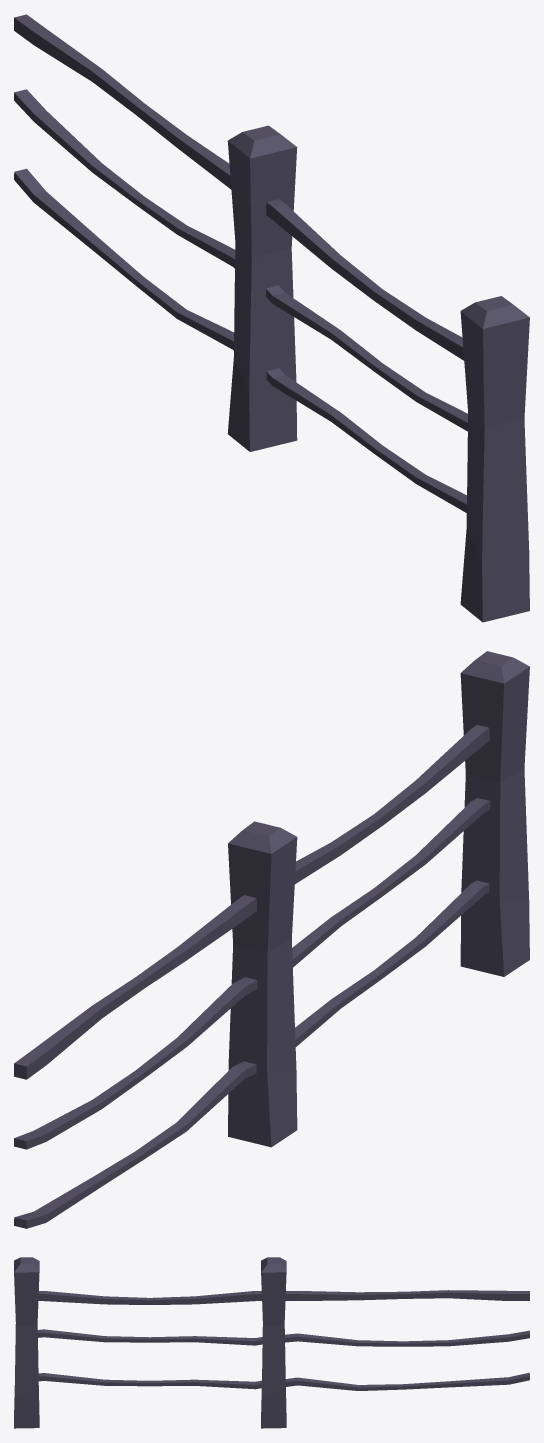
Rendered from EveryoneGetInTheCarWeAreLeavingThisTownNow.fbx.
The picture shows the model from 3 angles, top to bottom: view 1: azimuth 30°, elevation 25°; view 2: azimuth 150°, elevation 25°; view 3: azimuth 270°, elevation 25°; orthographic projection. The views are drawn at different scales.
Parts seen in each view (by area): view 1: pCube26, pCube16, pCube17; view 2: pCube26, pCube17, pCube16; view 3: pCube26, pCube16, pCube17.
Boxes of the visible parts, x1=… form: pCube26: x1=14, y1=14, x2=467, y2=512; pCube16: x1=460, y1=296, x2=529, y2=622; pCube17: x1=227, y1=125, x2=297, y2=451; pCube26: x1=14, y1=725, x2=490, y2=1228; pCube17: x1=228, y1=821, x2=297, y2=1147; pCube16: x1=460, y1=651, x2=529, y2=976; pCube26: x1=37, y1=1290, x2=529, y2=1390; pCube16: x1=14, y1=1257, x2=39, y2=1428; pCube17: x1=261, y1=1257, x2=286, y2=1428.
Size of the model in its own units: 35.98 by 222 by 642.
